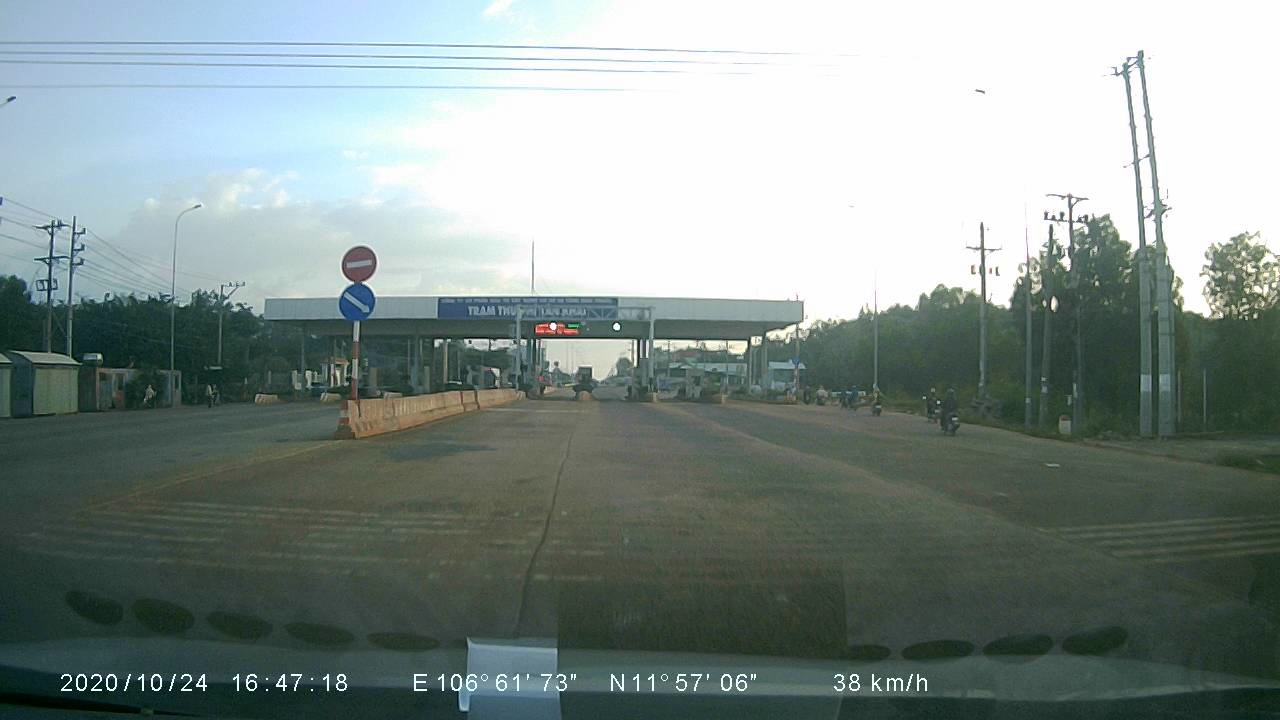Cam di nguoc chieu: (338, 243, 383, 283)
Huong di phai re phai: (334, 282, 377, 322)
